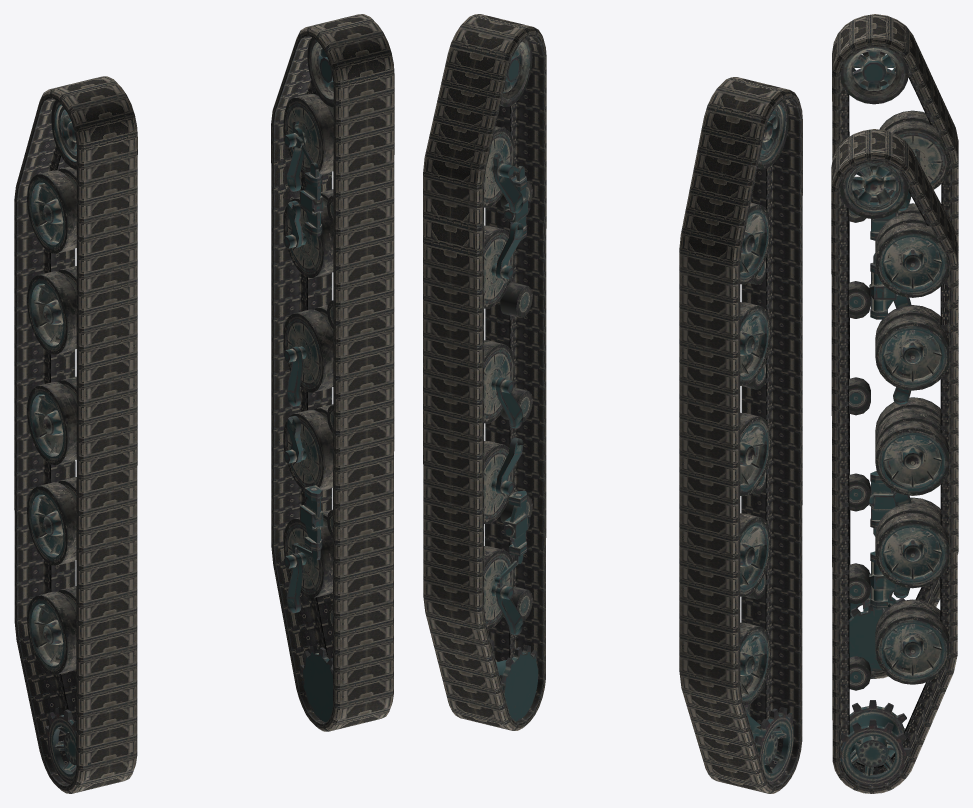
Rendered from Chassis.glb.
3 renders of one model, left to right at view 1: azimuth 30°, elevation 25°; view 2: azimuth 150°, elevation 25°; view 3: azimuth 270°, elevation 25°, orthographic. The views are drawn at different scales.
Visible parts, largest first — view 1: set_1_group_0, set_0_group_0, set_2_group_0, set_3_group_0; view 2: set_1_group_0, set_0_group_0, set_2_group_0, set_3_group_0; view 3: set_2_group_0, set_0_group_0, set_3_group_0, set_1_group_0.
Part boxes in pixels (left/top/right/bottom): set_1_group_0: left=14, top=76, right=137, bottom=793; set_0_group_0: left=271, top=14, right=394, bottom=731; set_2_group_0: left=283, top=37, right=333, bottom=722; set_3_group_0: left=27, top=100, right=133, bottom=784; set_1_group_0: left=679, top=77, right=802, bottom=793; set_0_group_0: left=423, top=14, right=546, bottom=730; set_2_group_0: left=484, top=37, right=538, bottom=721; set_3_group_0: left=740, top=100, right=793, bottom=784; set_2_group_0: left=840, top=161, right=949, bottom=785; set_0_group_0: left=831, top=129, right=957, bottom=793; set_3_group_0: left=840, top=46, right=949, bottom=670; set_1_group_0: left=832, top=14, right=958, bottom=678.
Bounding box in the file's own units: 3.08 × 6.53 × 1.18.
4 materials, 4 textured.
